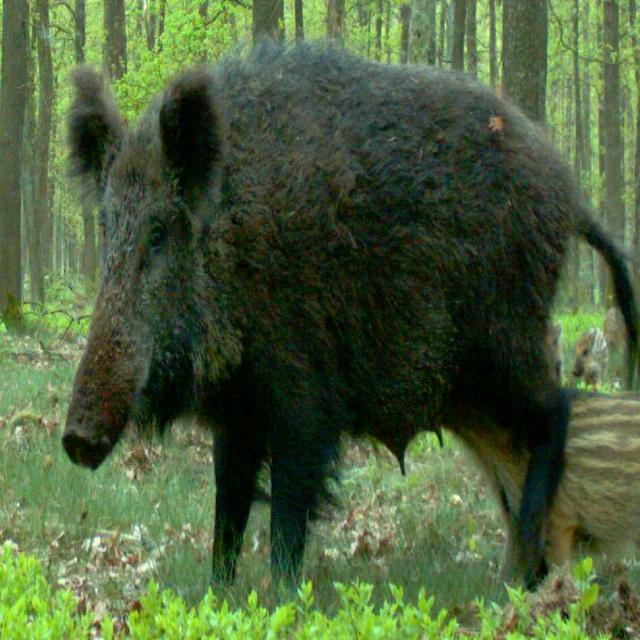pig: (47, 14, 640, 550)
